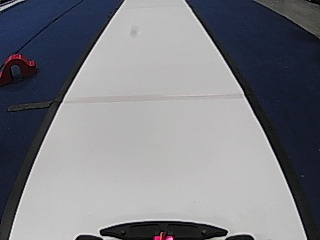bridge: (0, 51, 36, 85)
